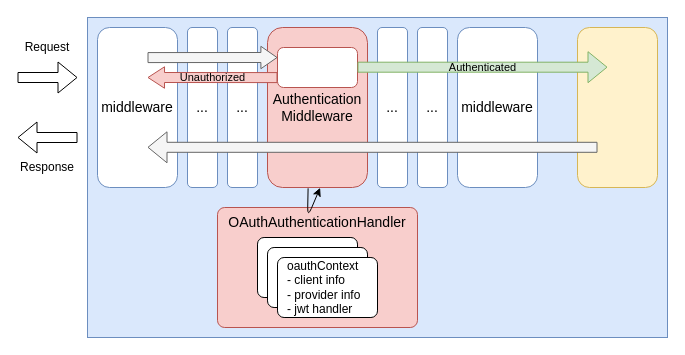
This 685x355 diagram has some shape labels left out. Here are the shapes that lost their labels. From the top down, the centre of each, then its label:
At (x=317, y=67): "Authenticate".
At (x=617, y=107): "Handler".
